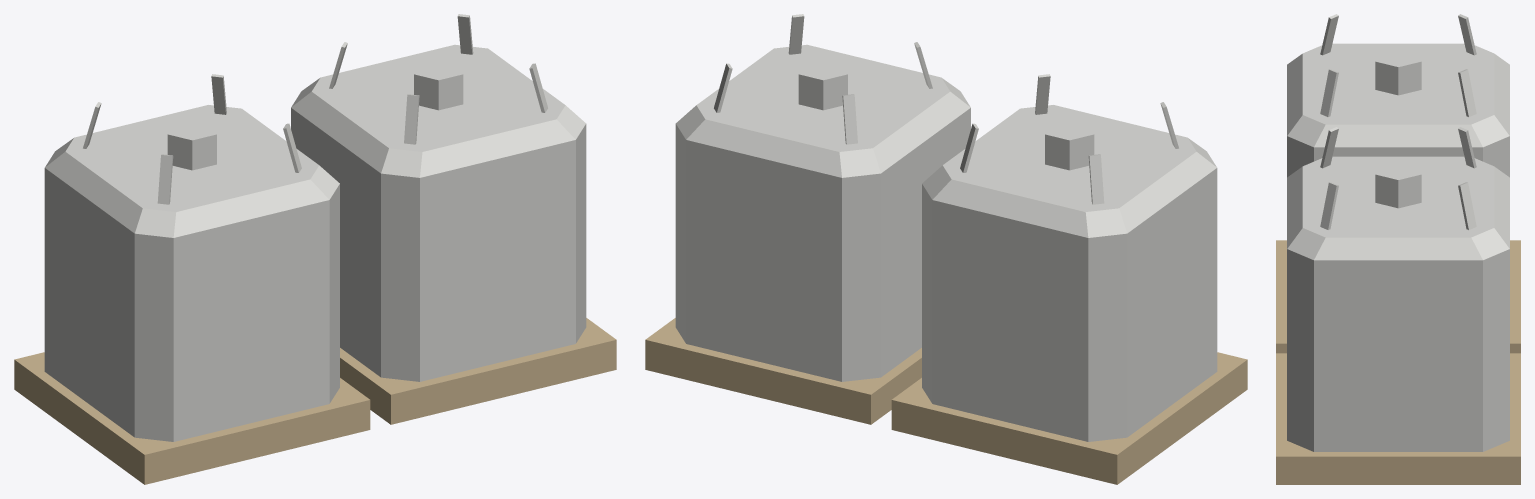
Rendered from scatter2.fbx.
3 views of the same model, side by side, from view 1: azimuth 30°, elevation 25°; view 2: azimuth 150°, elevation 25°; view 3: azimuth 270°, elevation 25° (orthographic). The views are drawn at different scales.
Parts seen in each view (by area): view 1: a1096/0/scatter2; view 2: a1096/0/scatter2; view 3: a1096/0/scatter2.
Part boxes in pixels (x1=…): a1096/0/scatter2: x1=14, y1=14, x2=616, y2=484; a1096/0/scatter2: x1=645, y1=14, x2=1247, y2=484; a1096/0/scatter2: x1=1276, y1=14, x2=1520, y2=484.
Bounding box in the file's own units: 2.3 × 1.37 × 1.1.
